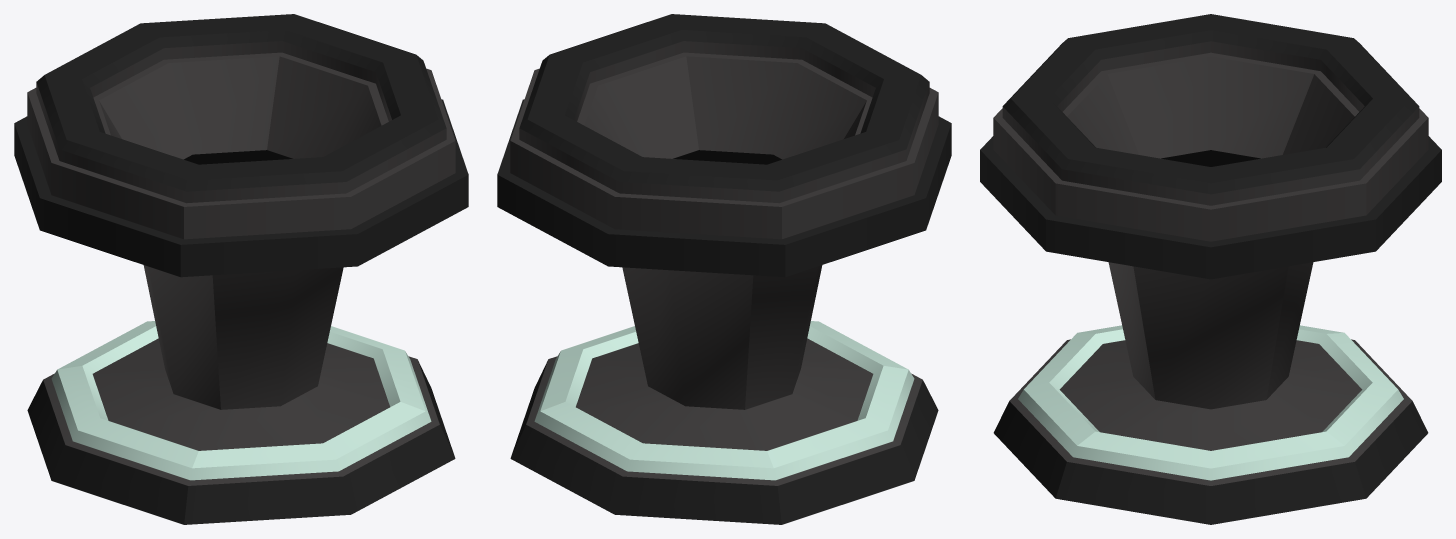
File: winter-brazier.glb
3 views of the same model, side by side, from view 1: azimuth 30°, elevation 25°; view 2: azimuth 150°, elevation 25°; view 3: azimuth 270°, elevation 25° (orthographic).
Visible parts, largest first — view 1: WinterBrazier; view 2: WinterBrazier; view 3: WinterBrazier.
Part boxes in pixels (left/top/right/bottom): WinterBrazier: left=14, top=14, right=468, bottom=524; WinterBrazier: left=497, top=14, right=951, bottom=524; WinterBrazier: left=980, top=14, right=1441, bottom=524.
Size of the model in its own units: 190 by 152 by 190.
Materials: 1 (1 with a texture image).
